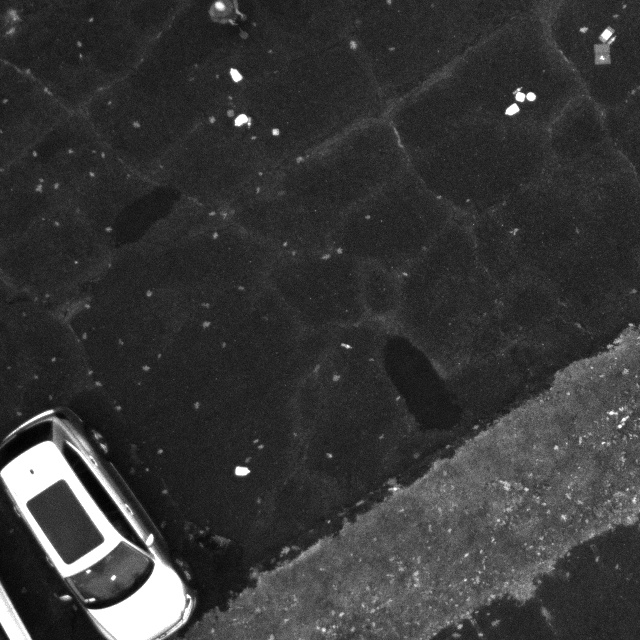bottle: (386, 485, 401, 493), (511, 85, 524, 94), (339, 342, 353, 350), (246, 116, 254, 128)
can: (228, 67, 245, 85), (233, 112, 249, 128), (504, 102, 520, 117), (234, 465, 251, 478), (515, 91, 526, 103), (526, 91, 537, 103)
container: (271, 127, 281, 137), (226, 109, 235, 118)
